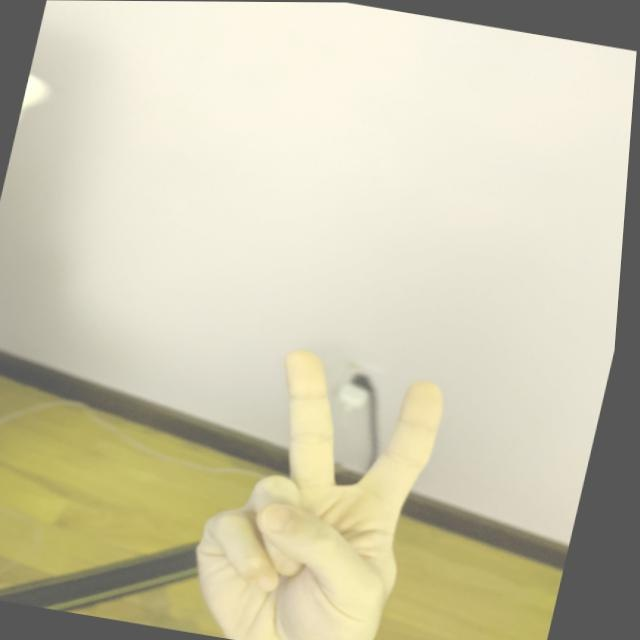V: (178, 333, 469, 639)
